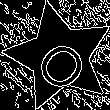O_NE: (25, 23, 93, 90)
